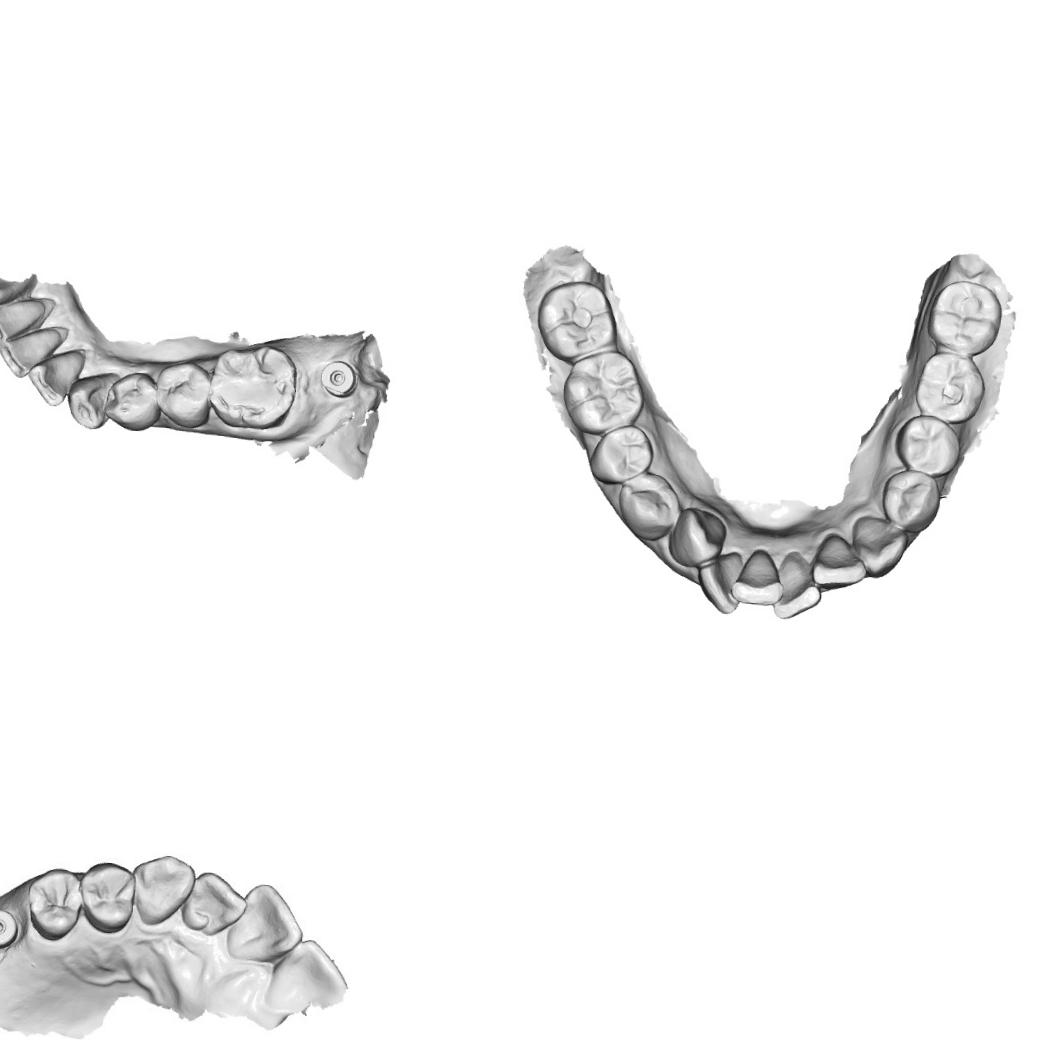canine: (130, 850, 196, 931), (848, 511, 910, 580), (664, 503, 727, 568), (62, 364, 120, 433)
implant: (318, 358, 358, 398), (0, 903, 25, 954)
incisor: (256, 935, 350, 1018), (222, 878, 305, 966), (180, 868, 250, 936), (767, 550, 824, 623), (23, 348, 88, 408), (0, 321, 64, 380), (727, 546, 787, 608), (806, 530, 868, 588), (693, 554, 748, 615), (0, 293, 48, 344)
molar: (554, 348, 650, 437), (207, 340, 299, 432), (532, 275, 622, 365), (924, 278, 1004, 354), (910, 346, 986, 424)
premolar: (22, 864, 86, 946), (76, 858, 140, 935), (614, 470, 680, 542), (892, 411, 960, 478), (586, 420, 655, 486), (150, 357, 212, 428), (878, 464, 940, 532), (106, 372, 162, 434)
